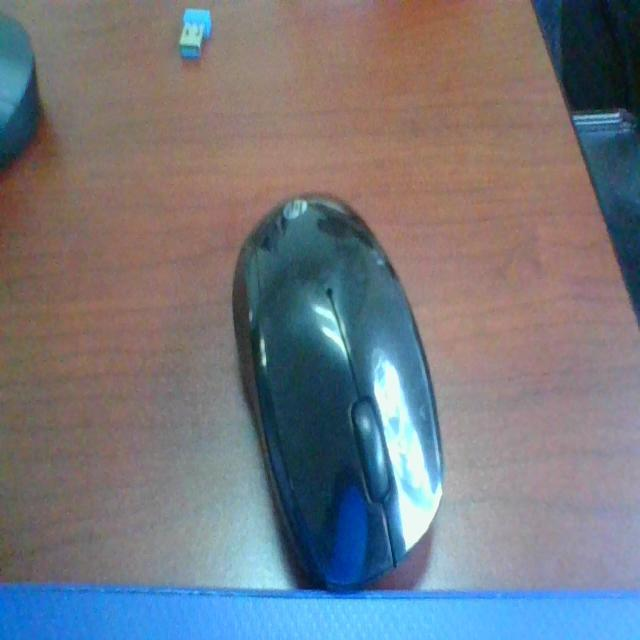mouse: (208, 163, 461, 562)
